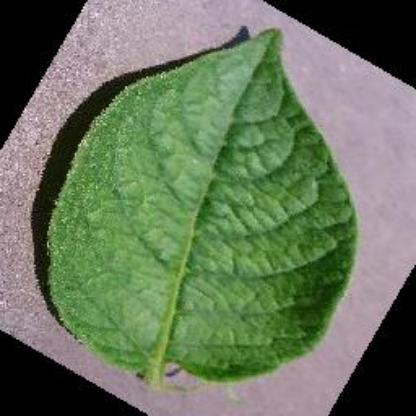Healthy-plant: (46, 30, 344, 386)
